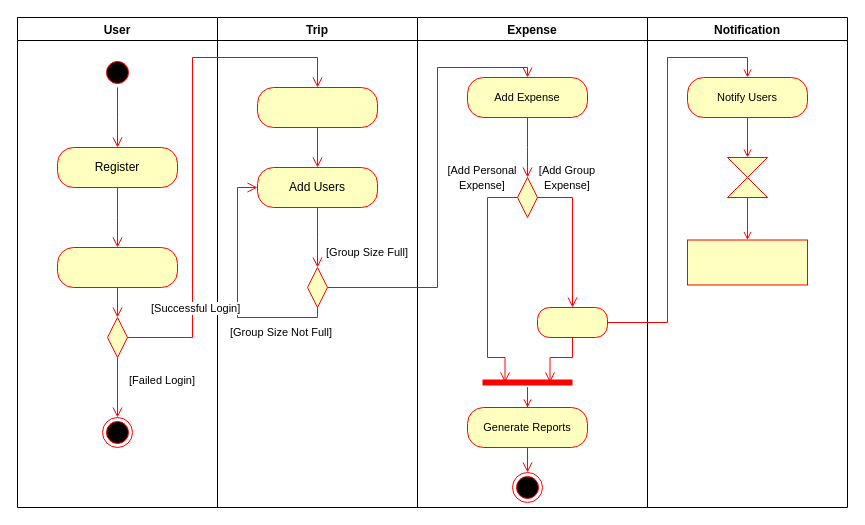
Image size: 865x525. Some labels were removed from this diagram. The centre of each missing label's shape, as x and y in pixels:
"Add Members" belongs at point 572,322.
"Create Trip" belongs at point 317,107.
"Login" belongs at point 117,267.
"Notification [Users Notified]" belongs at point 747,262.
